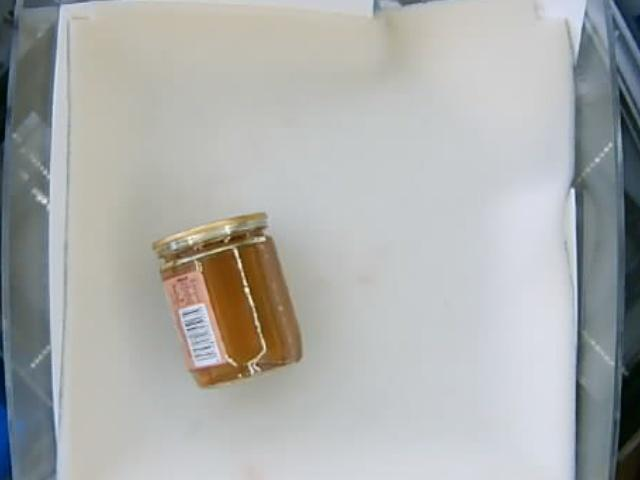Bottle: (150, 215, 303, 387)
